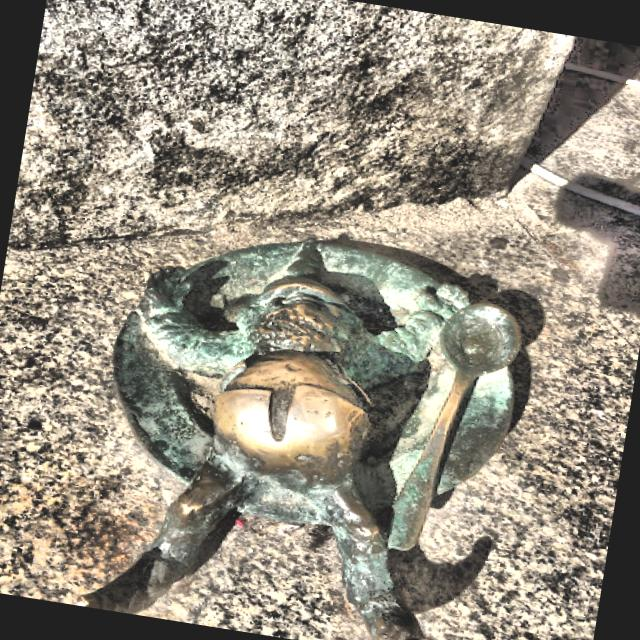Obiezysmak: (80, 241, 521, 640)
